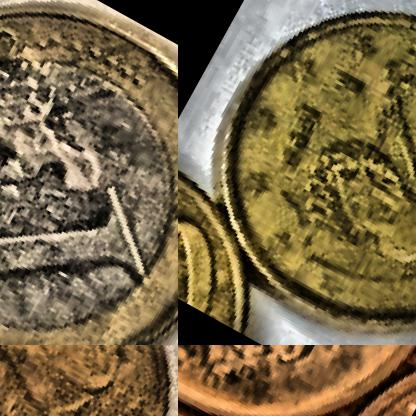coin: (178, 0, 415, 344), (0, 0, 177, 344), (178, 345, 415, 415), (0, 345, 177, 415)
